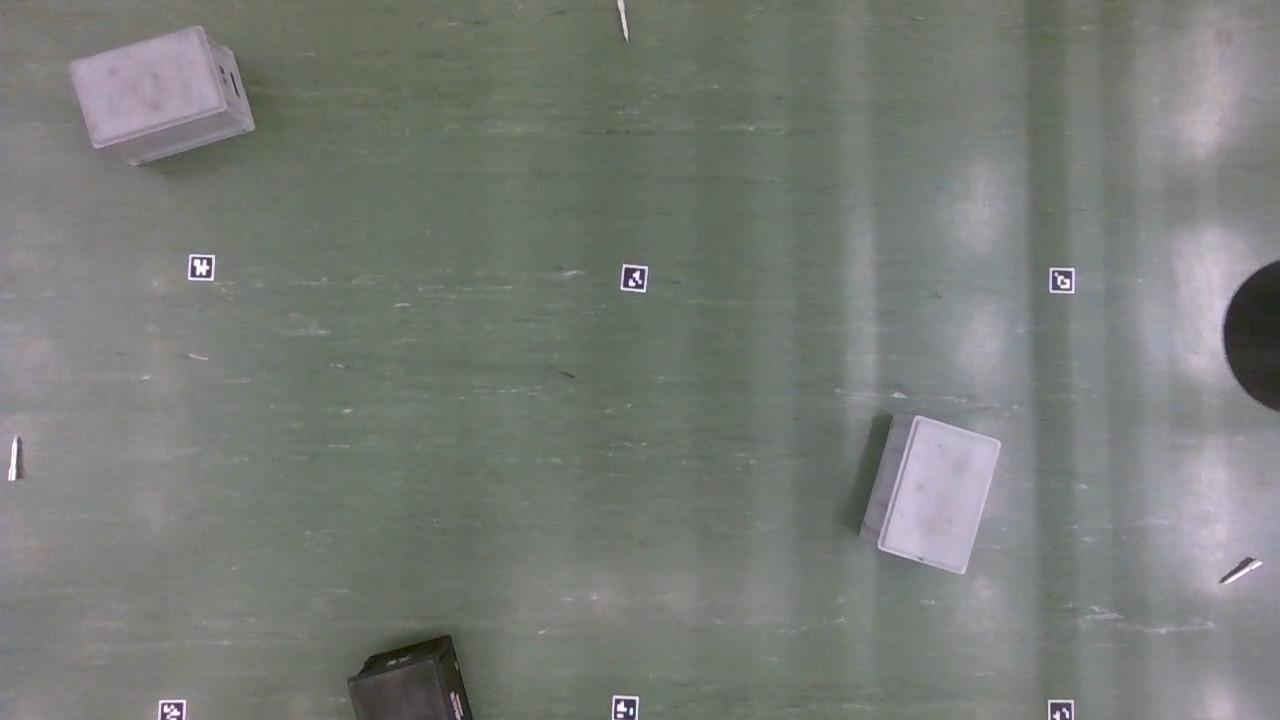probes: (1222, 558, 1259, 585), (12, 437, 22, 483), (619, 2, 630, 43)
rako: (70, 27, 255, 169), (857, 416, 1001, 578), (348, 636, 474, 720)
